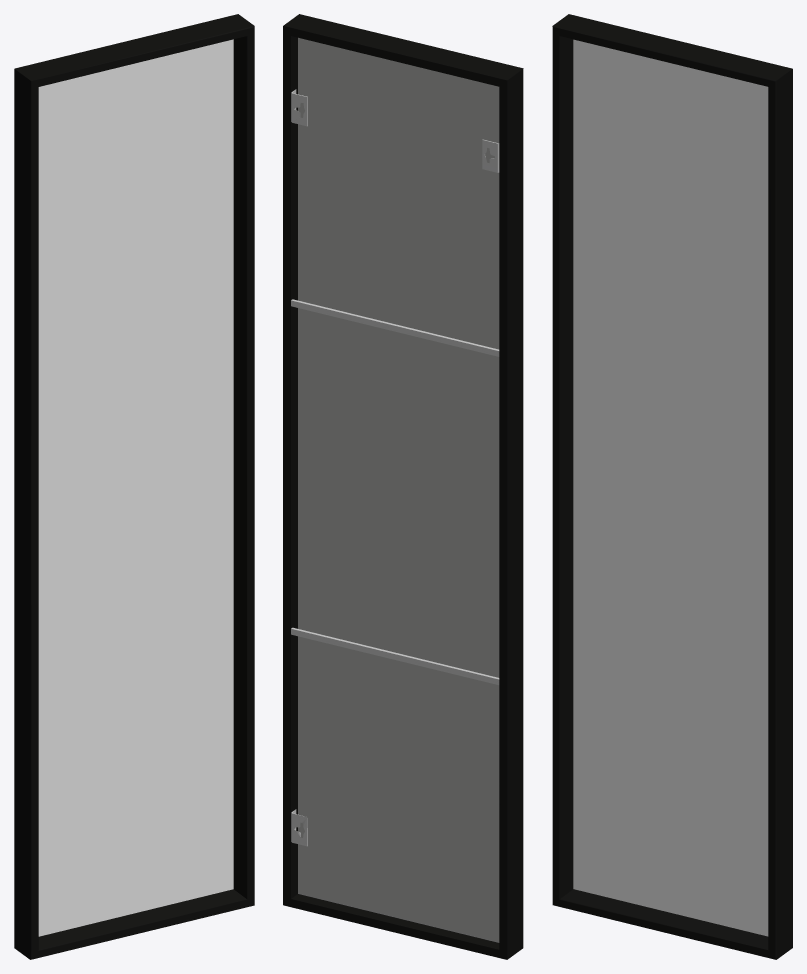
The model's file is nissedal_lustro_30320321.glb.
The picture shows the model from 3 angles, left to right: view 1: azimuth 30°, elevation 25°; view 2: azimuth 150°, elevation 25°; view 3: azimuth 330°, elevation 25°; orthographic projection.
Visible parts, largest first — view 1: nissedal_lustro_30320321; view 2: nissedal_lustro_30320321; view 3: nissedal_lustro_30320321.
Boxes of the visible parts, x1=… form: nissedal_lustro_30320321: x1=14, y1=14, x2=254, y2=959; nissedal_lustro_30320321: x1=283, y1=14, x2=523, y2=959; nissedal_lustro_30320321: x1=552, y1=14, x2=792, y2=959.
Bounding box in the file's own units: 0.4001 × 1.5 × 0.0531.
Materials: 1 (1 with a texture image).
